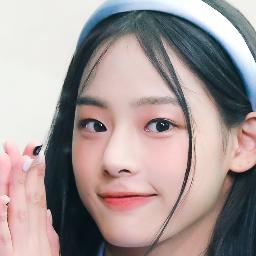summerCool: (76, 42, 214, 246)
